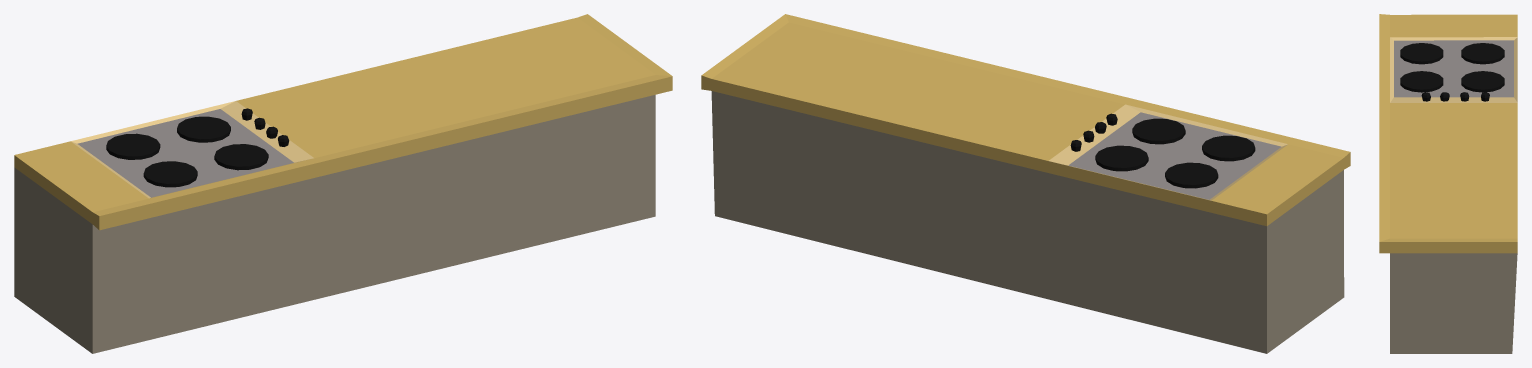
Rendered from Counter.fbx.
3 renders of one model, left to right at view 1: azimuth 30°, elevation 25°; view 2: azimuth 150°, elevation 25°; view 3: azimuth 270°, elevation 25°, orthographic. The views are drawn at different scales.
Parts seen in each view (by area): view 1: pCube3, pasted__pCylinder2, pasted__pCylinder1, pasted__pasted__pCylinder2, pCylinder1; view 2: pCube3, pasted__pCylinder2, pasted__pasted__pCylinder2, pCylinder1, pasted__pCylinder1; view 3: pCube3, pCylinder1, pasted__pCylinder1, pasted__pCylinder2, pasted__pasted__pCylinder2.
Boxes of the visible parts, x1,y1,x2,y2 form: pCube3: (14, 14, 672, 353); pasted__pCylinder2: (143, 161, 197, 187); pasted__pCylinder1: (177, 116, 230, 142); pasted__pasted__pCylinder2: (214, 144, 268, 170); pCylinder1: (106, 133, 160, 159); pCube3: (701, 14, 1350, 353); pasted__pCylinder2: (1202, 135, 1255, 161); pasted__pasted__pCylinder2: (1132, 118, 1185, 144); pCylinder1: (1165, 162, 1218, 188); pasted__pCylinder1: (1095, 145, 1148, 171); pCube3: (1379, 14, 1517, 353); pCylinder1: (1461, 43, 1504, 64); pasted__pCylinder1: (1461, 71, 1504, 92); pasted__pCylinder2: (1400, 43, 1443, 64); pasted__pasted__pCylinder2: (1400, 71, 1443, 92).
Bounding box in the file's own units: 14.13 × 3.53 × 3.63.
